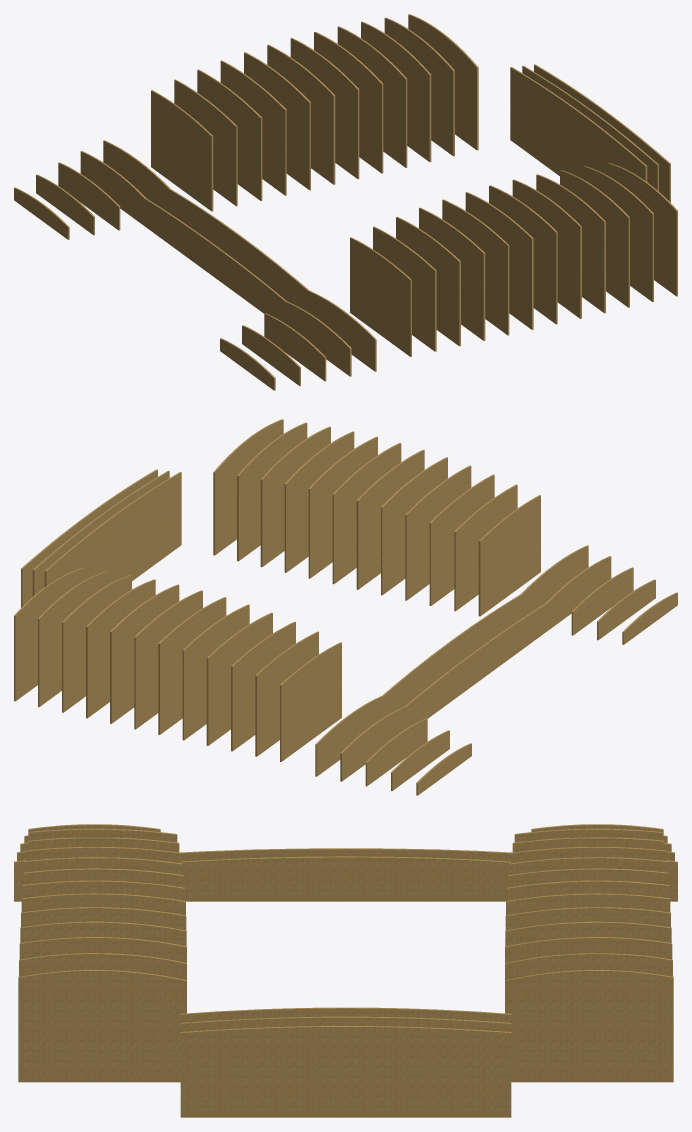
The model's file is DECK JIG__TRANSV FRAMES.glb.
3 renders of one model, top to bottom at view 1: azimuth 30°, elevation 25°; view 2: azimuth 150°, elevation 25°; view 3: azimuth 270°, elevation 25°, orthographic. The views are drawn at different scales.
Bounding box in the file's own units: 5.89 × 1.18 × 6.04.
1 material, 1 textured.
